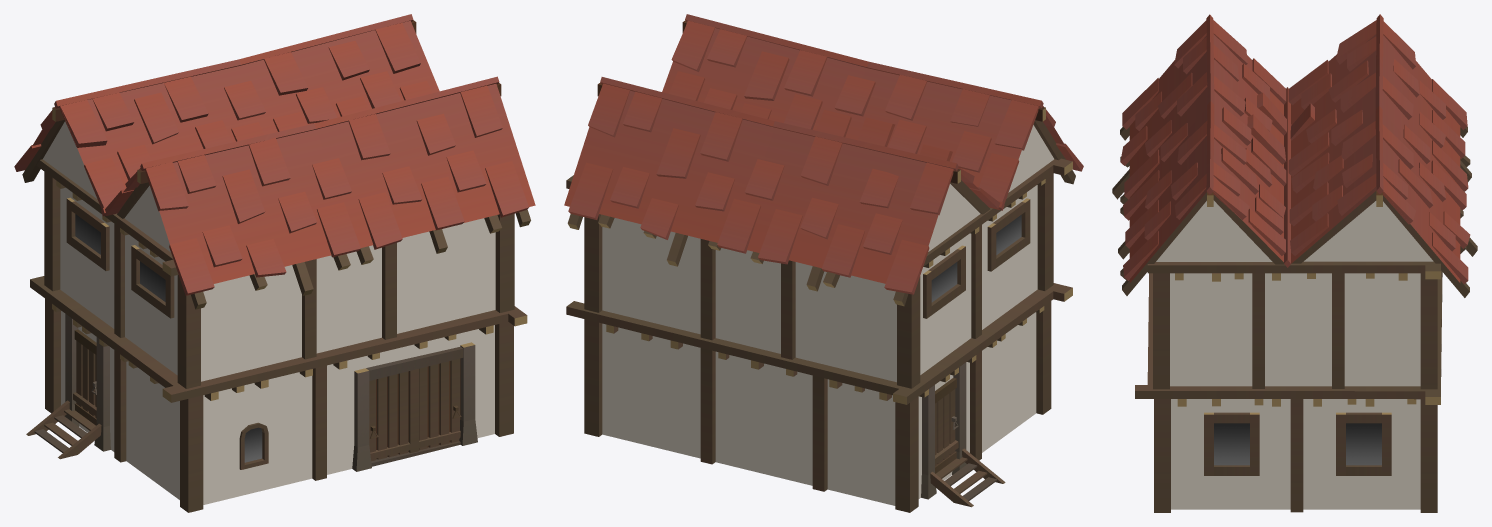
The model's file is House_11.fbx.
The picture shows the model from 3 angles, left to right: view 1: azimuth 30°, elevation 25°; view 2: azimuth 150°, elevation 25°; view 3: azimuth 270°, elevation 25°; orthographic projection.
Visible parts, largest first — view 1: polySurface9620; view 2: polySurface9620; view 3: polySurface9620.
Boxes of the visible parts, x1,y1,x2,y2 form: polySurface9620: (14, 14, 535, 512); polySurface9620: (564, 14, 1083, 512); polySurface9620: (1112, 14, 1477, 512).
Bounding box in the file's own units: 999 × 831 × 830.
